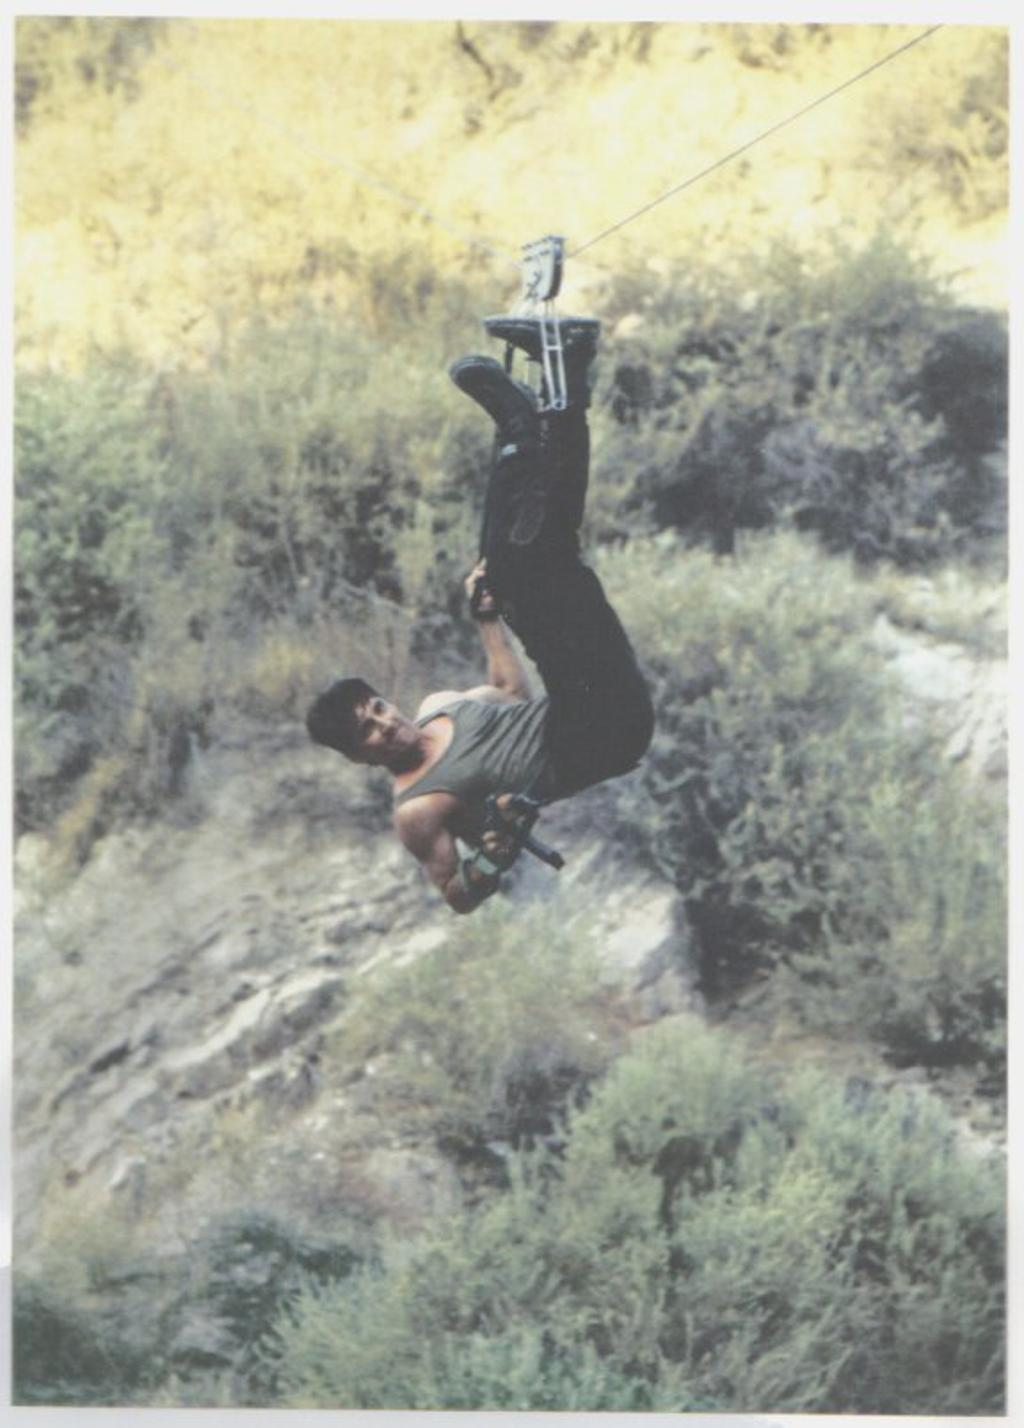face: (343, 686, 421, 761)
